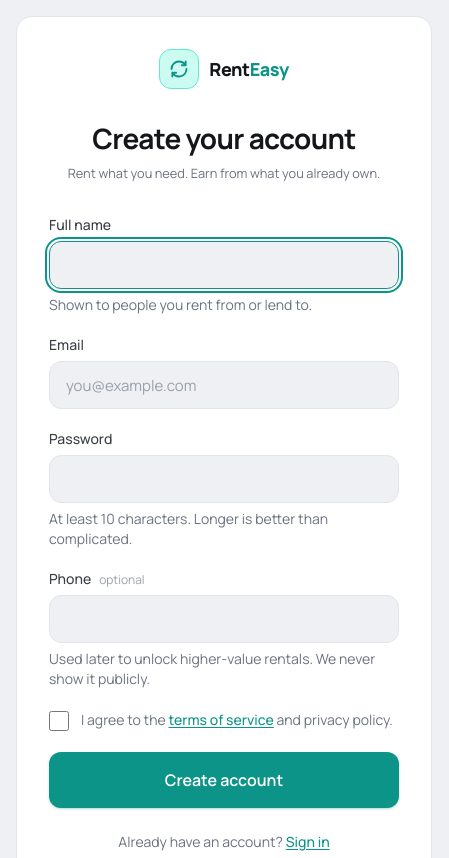
RegisterPage › blocks submission until the terms box is ticked, without a round trip
In the field labelled "Full name": (224, 265) [49,241,399,289], type "Asha"
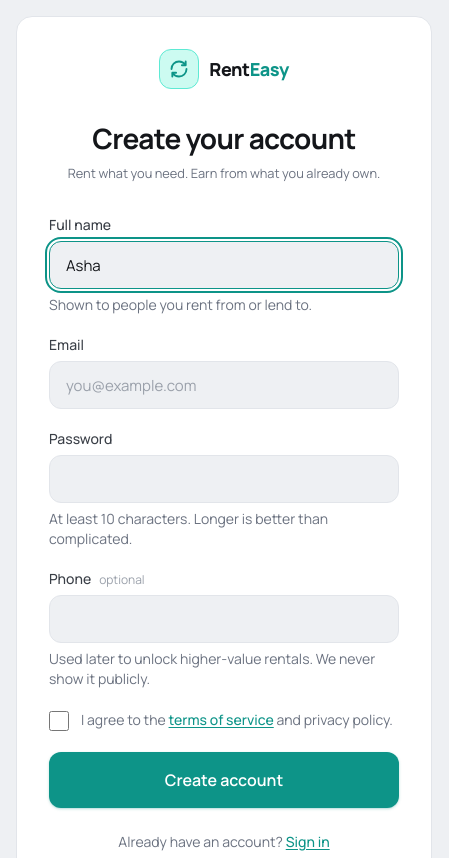
In the field labelled "Email": (224, 385) [49,361,399,409], type "asha@example.test"
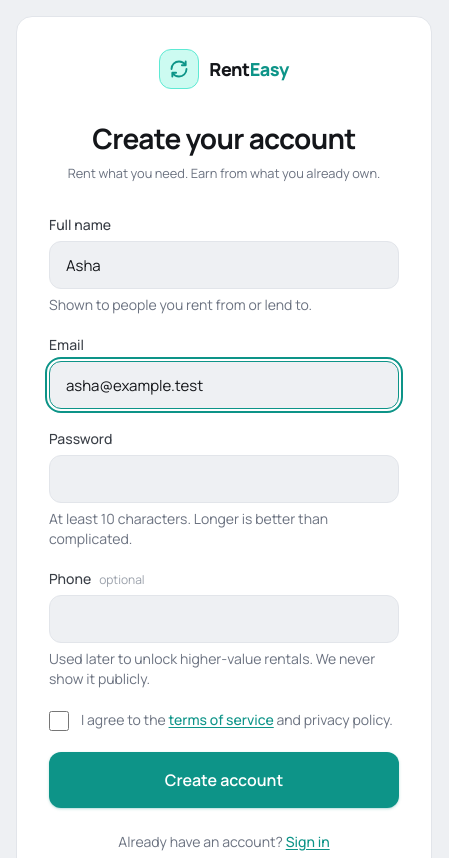
In the password field labelled "Password": (224, 479) [49,455,399,503], type "a-good-password"
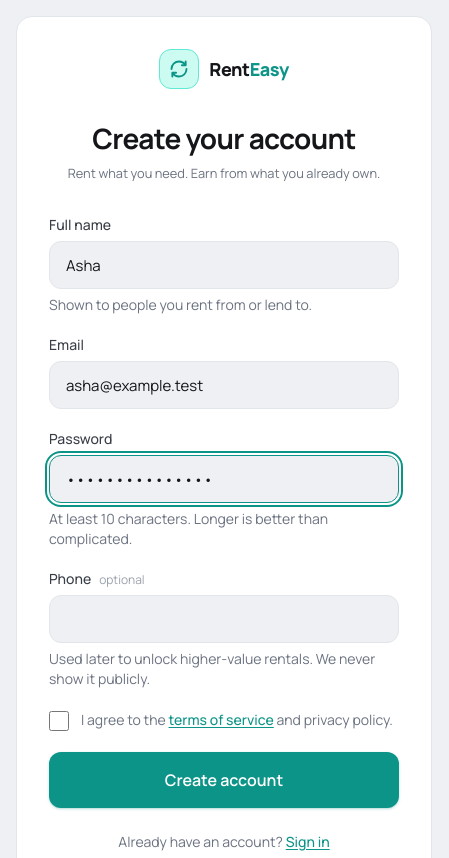
Click the button "Create account": (224, 780) [49,752,399,808]
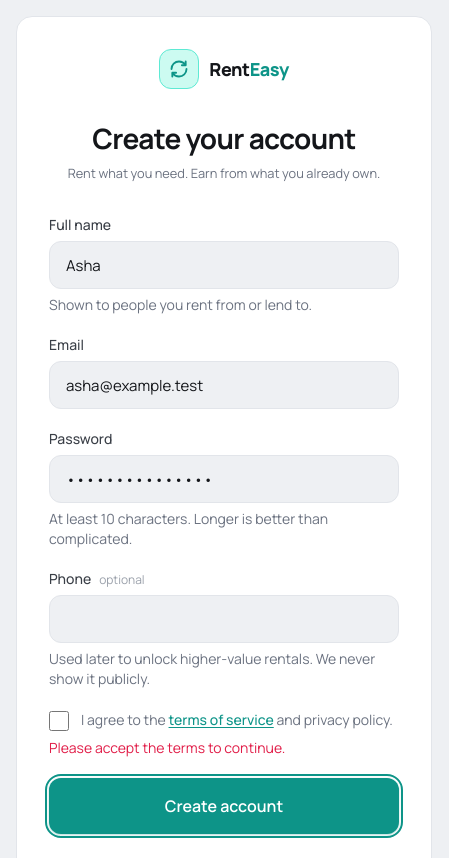
Check: the text "Please accept the terms to continue." is shown, box [49,738,285,757]
